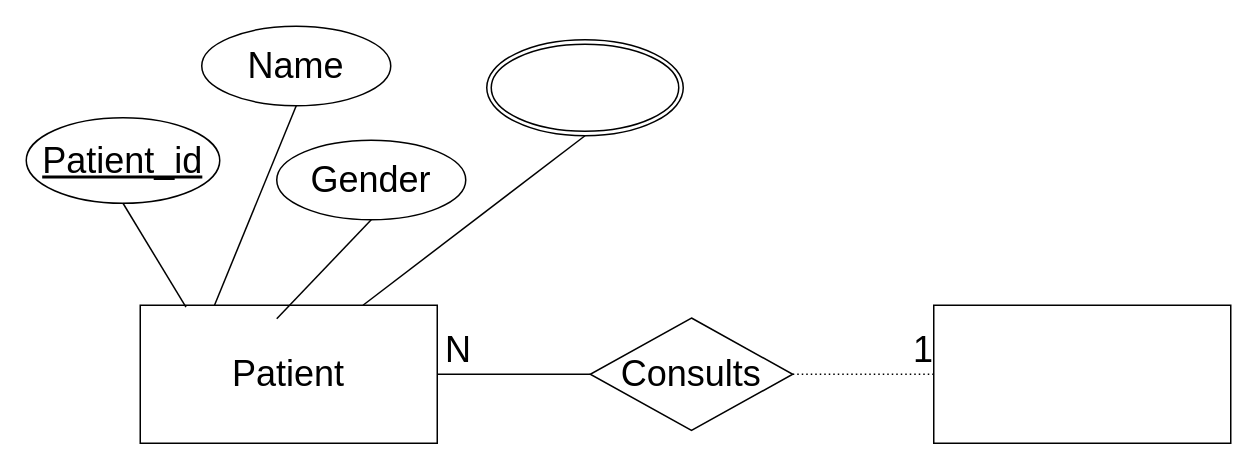
The diagram is 1257 pixels wide and 470 high, and some of its shapes have lost their labels. Here are the shapes that lost their labels. From the top down, the centre of each, then its label:
At pixel 584 87: "Contact no".
At pixel 1081 373: "Doctor".
